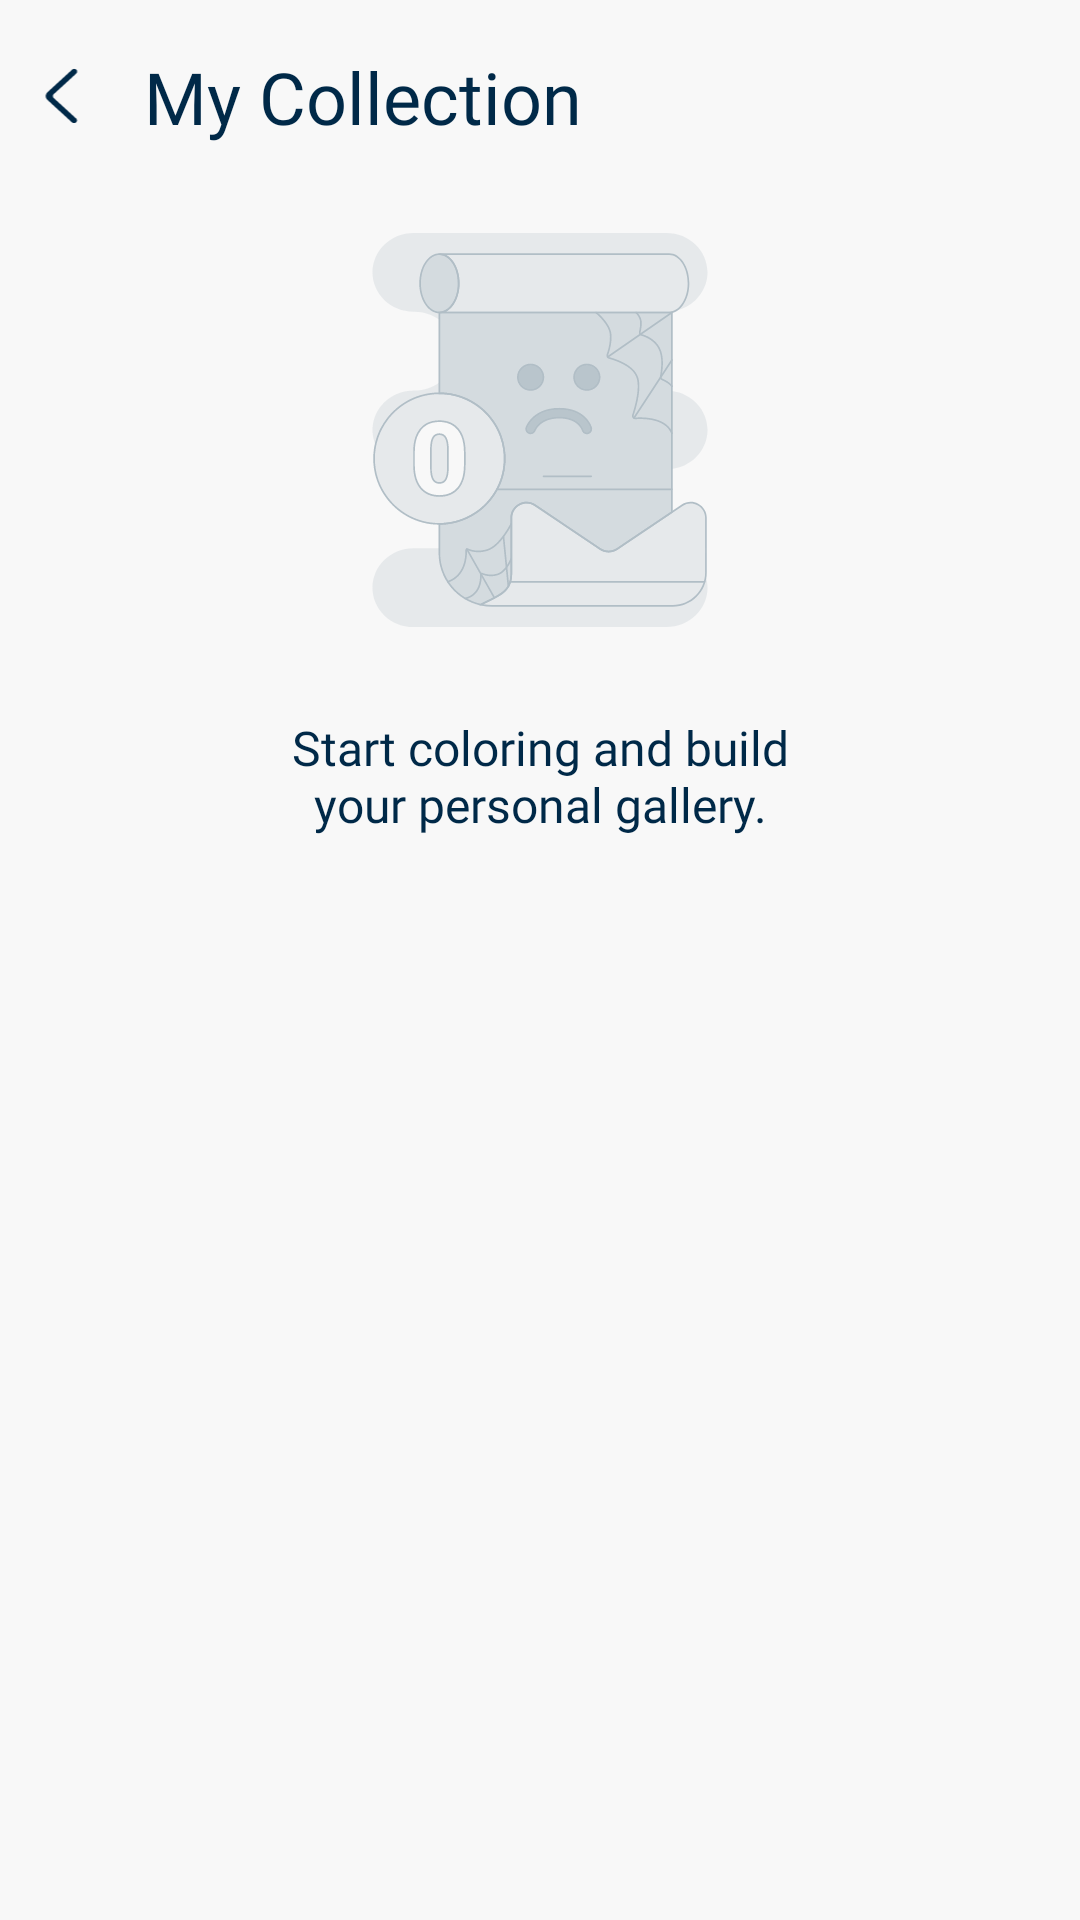

Icon click points for this 1080w x 1920h phone screenshot, format [x,y]:
back collection: [61,96]
